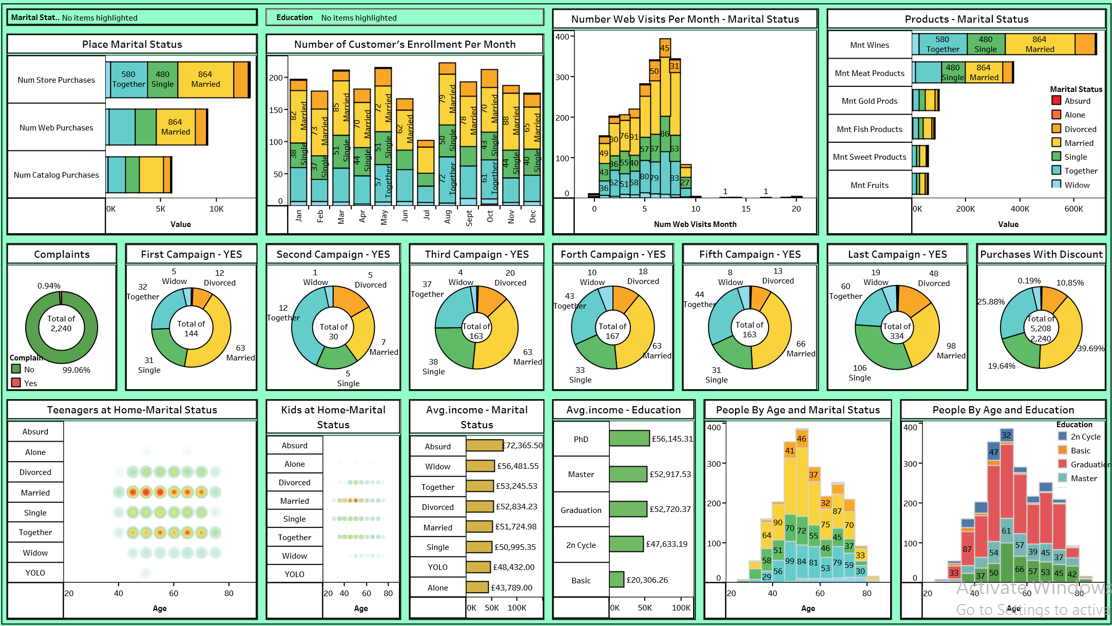

The page's visual inventory and layout, read from the dashboard file:
{"tool":"tableau","page":{"name":"Dashboard 1","canvas":[1600,900],"ordinal":0},"visuals":[{"type":"highlighter","title":"Place Marital Status","param":"[federated.060bf4319bc14f12x9s4l154w5rp].[none:Marital_Status:nk]","box":[7,7,371.2,36]},{"type":"highlighter","title":"People By Age and Education","param":"[federated.060bf4319bc14f12x9s4l154w5rp].[none:Education:nk]","box":[378.2,7,410.3,36]},{"type":"worksheet","title":"Number Web Visits Per Month - Marital Status","mark":"Bar","rows":["ID"],"cols":["NumWebVisitsMonth"],"box":[788.5,7,392.2,335.8]},{"type":"worksheet","title":"Products - Marital Status","mark":"Bar","box":[1180.7,7,412.3,335.8]},{"type":"worksheet","title":"Place Marital Status","mark":"Automatic","box":[7,43,371.2,299.8]},{"type":"worksheet","title":"Number of Customer's Enrollment Per Month","mark":"Bar","rows":["ID"],"cols":["Dt_Customer"],"box":[378.2,43,410.3,299.8]},{"type":"worksheet","title":"Complaints","mark":"Pie","rows":["Calculation_664280980779585545","Calculation_664280980779585545"],"box":[7,342.8,170.4,222.8]},{"type":"worksheet","title":"First Campaign - YES","mark":"Pie","rows":["Calculation_664280980779585545","Calculation_664280980779585545"],"box":[177.4,342.8,200.8,222.8]},{"type":"worksheet","title":"Second Campaign - YES","mark":"Pie","rows":["Calculation_664280980779585545","Calculation_664280980779585545"],"box":[378.2,342.8,204.7,222.8]},{"type":"worksheet","title":"Third Campaign - YES","mark":"Pie","rows":["Calculation_664280980779585545","Calculation_664280980779585545"],"box":[582.9,342.8,205.6,222.8]},{"type":"worksheet","title":"Forth Campaign - YES","mark":"Pie","rows":["Calculation_664280980779585545","Calculation_664280980779585545"],"box":[788.5,342.8,185.7,222.8]},{"type":"worksheet","title":"Fifth Campaign - YES","mark":"Pie","rows":["Calculation_664280980779585545","Calculation_664280980779585545"],"box":[974.2,342.8,206.5,222.8]},{"type":"worksheet","title":"Last Campaign - YES","mark":"Pie","rows":["Calculation_664280980779585545","Calculation_664280980779585545"],"box":[1180.7,342.8,213.9,222.8]},{"type":"worksheet","title":"Purchases With Discount","mark":"Pie","rows":["Calculation_664280980779585545","Calculation_664280980779585545"],"box":[1394.6,342.8,198.4,222.8]},{"type":"legend","title":"Complaints","param":"[federated.060bf4319bc14f12x9s4l154w5rp].[none:Complain:ok]","box":[16,502,55,58]},{"type":"worksheet","title":"Teenagers at Home-Marital Status","mark":"Heatmap","rows":["Marital_Status"],"cols":["Age (bin)"],"box":[7,565.6,371.2,327.4]},{"type":"worksheet","title":"Kids at Home-Marital Status","mark":"Heatmap","rows":["Marital_Status"],"cols":["Age (bin)"],"box":[378.2,565.6,204.7,327.4]},{"type":"worksheet","title":"Avg.income - Marital Status","mark":"Bar","rows":["Marital_Status"],"cols":["Income"],"box":[582.9,565.6,205.6,327.4]},{"type":"worksheet","title":"Avg.income - Education","mark":"Bar","rows":["Education"],"cols":["Income"],"box":[788.5,565.6,216.3,327.4]},{"type":"worksheet","title":"People By Age and Marital Status","mark":"Automatic","rows":["Calculation_664280980786962442"],"cols":["Age (bin)"],"box":[1004.8,565.6,281,327.4]},{"type":"worksheet","title":"People By Age and Education","mark":"Automatic","rows":["Calculation_664280980786962442"],"cols":["Age (bin)"],"box":[1285.8,565.6,307.2,327.4]}]}

Visuals, with their boxes in screenshot pixels (x1, y1, x2, y2):
"Place Marital Status" highlighter: <bbox>8, 8, 262, 32</bbox>
"People By Age and Education" highlighter: <bbox>262, 8, 543, 32</bbox>
"Number Web Visits Per Month - Marital Status" worksheet (Bar marks): <bbox>543, 8, 812, 238</bbox>
"Products - Marital Status" worksheet (Bar marks): <bbox>812, 8, 1095, 238</bbox>
"Place Marital Status" worksheet: <bbox>8, 32, 262, 238</bbox>
"Number of Customer's Enrollment Per Month" worksheet (Bar marks): <bbox>262, 32, 543, 238</bbox>
"Complaints" worksheet (Pie marks): <bbox>8, 238, 124, 391</bbox>
"First Campaign - YES" worksheet (Pie marks): <bbox>124, 238, 262, 391</bbox>
"Second Campaign - YES" worksheet (Pie marks): <bbox>262, 238, 402, 391</bbox>
"Third Campaign - YES" worksheet (Pie marks): <bbox>402, 238, 543, 391</bbox>
"Forth Campaign - YES" worksheet (Pie marks): <bbox>543, 238, 671, 391</bbox>
"Fifth Campaign - YES" worksheet (Pie marks): <bbox>671, 238, 812, 391</bbox>
"Last Campaign - YES" worksheet (Pie marks): <bbox>812, 238, 959, 391</bbox>
"Purchases With Discount" worksheet (Pie marks): <bbox>959, 238, 1095, 391</bbox>
"Complaints" legend: <bbox>14, 347, 52, 387</bbox>
"Teenagers at Home-Marital Status" worksheet (Heatmap marks): <bbox>8, 391, 262, 615</bbox>
"Kids at Home-Marital Status" worksheet (Heatmap marks): <bbox>262, 391, 402, 615</bbox>
"Avg.income - Marital Status" worksheet (Bar marks): <bbox>402, 391, 543, 615</bbox>
"Avg.income - Education" worksheet (Bar marks): <bbox>543, 391, 692, 615</bbox>
"People By Age and Marital Status" worksheet: <bbox>692, 391, 884, 615</bbox>
"People By Age and Education" worksheet: <bbox>884, 391, 1095, 615</bbox>
